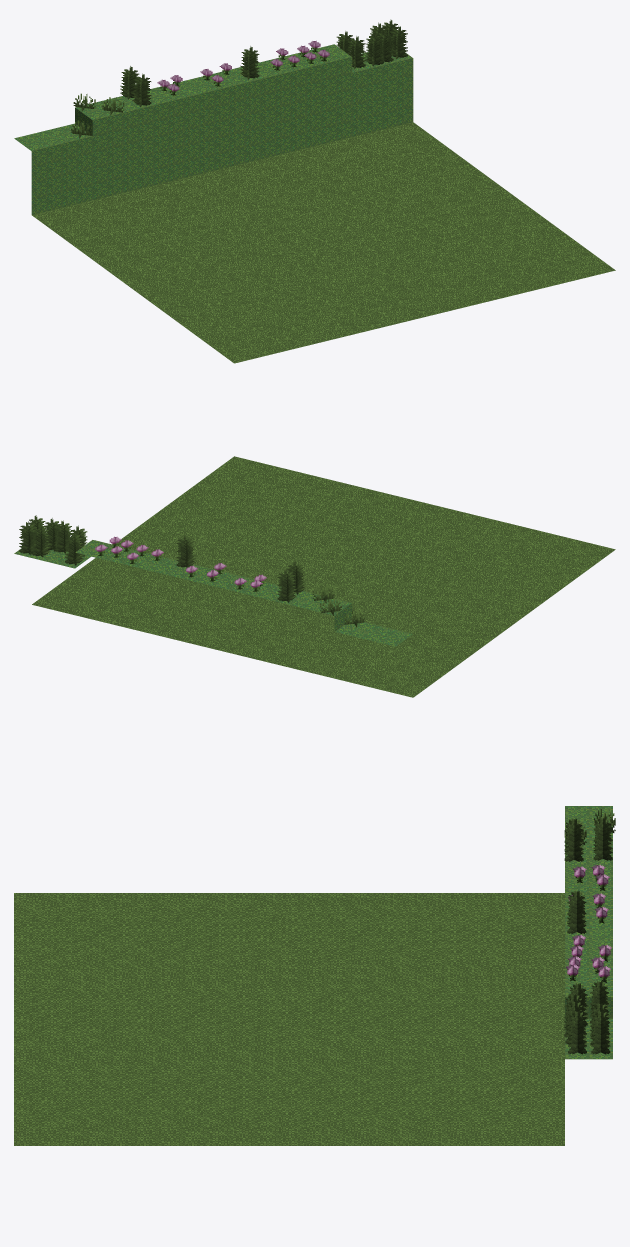
File: chunk-50-0-lvl-1-transformed.glb
3 renders of one model, top to bottom at view 1: azimuth 30°, elevation 25°; view 2: azimuth 150°, elevation 25°; view 3: azimuth 270°, elevation 25°, orthographic. The views are drawn at different scales.
Visible parts, largest first — view 1: Grass_Block, Moss_Block, Large_Fern, Allium, Grass; view 2: Grass_Block, Moss_Block, Large_Fern, Allium, Grass; view 3: Grass_Block, Moss_Block, Large_Fern, Allium.
Part boxes in pixels (bbox=[...]): Grass_Block: bbox=[32, 122, 615, 363]; Moss_Block: bbox=[14, 44, 413, 214]; Large_Fern: bbox=[120, 19, 407, 106]; Allium: bbox=[157, 40, 329, 95]; Grass: bbox=[71, 93, 124, 138]; Grass_Block: bbox=[32, 456, 615, 697]; Moss_Block: bbox=[14, 540, 412, 646]; Large_Fern: bbox=[19, 515, 305, 602]; Allium: bbox=[95, 536, 266, 591]; Grass: bbox=[312, 585, 365, 627]; Grass_Block: bbox=[14, 893, 564, 1145]; Moss_Block: bbox=[565, 806, 612, 1059]; Large_Fern: bbox=[564, 817, 612, 1054]; Allium: bbox=[566, 864, 611, 982].
Size of the model in its own units: 25 by 11 by 25.13.
Materials: 7 (7 with a texture image).
